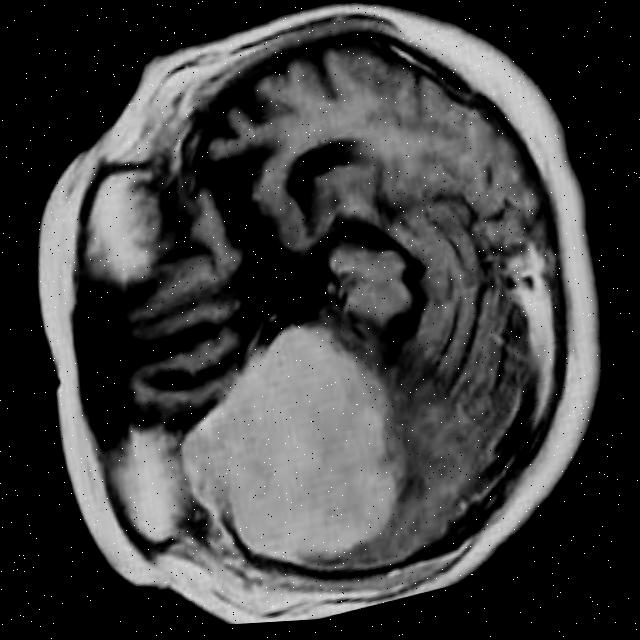Meningioma: (154, 295, 429, 596)
